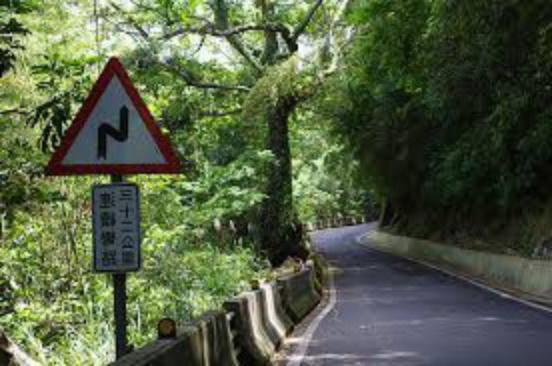double_bend_right: (36, 53, 185, 176)
